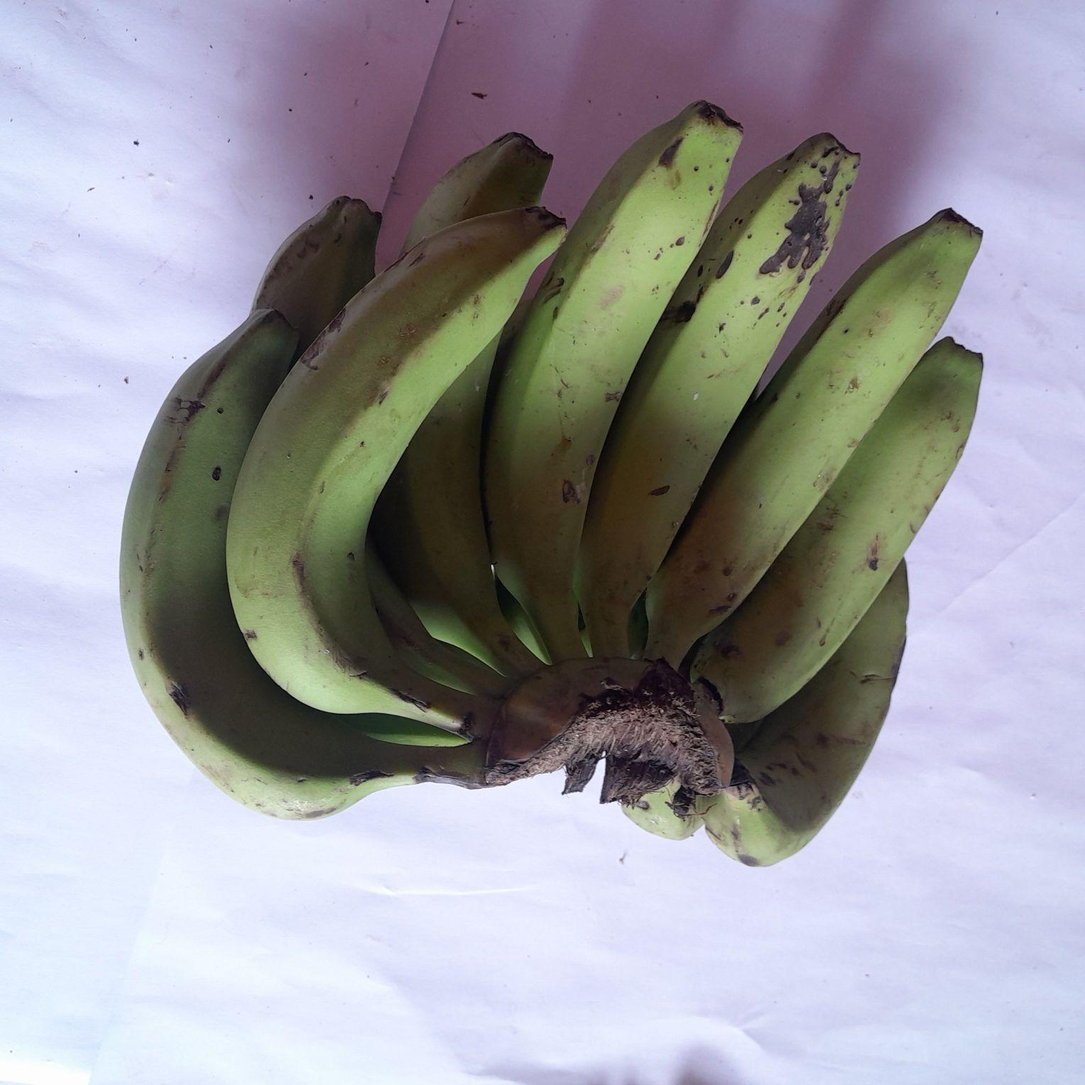Banana Unripe: (121, 309, 485, 818), (227, 208, 564, 737), (644, 210, 981, 665), (576, 134, 858, 655), (483, 102, 740, 660), (691, 339, 983, 723), (699, 566, 909, 867), (252, 197, 381, 357)
